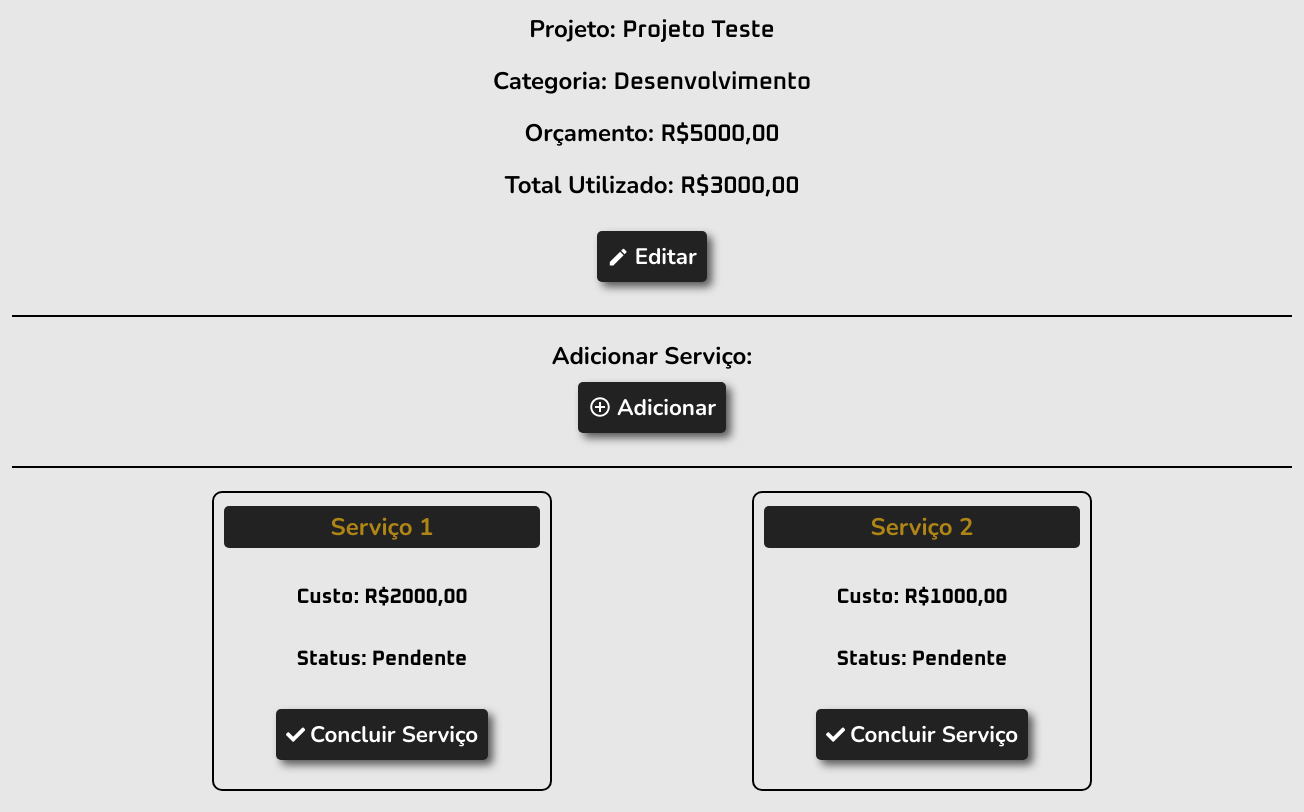
Scenario: Página de Edição de Projeto - Teste de Integração › handleCreateService › deve criar serviço com sucesso quando o custo for válido
Click the button "Adicionar": {"x": 652, "y": 408} [578, 382, 726, 433]
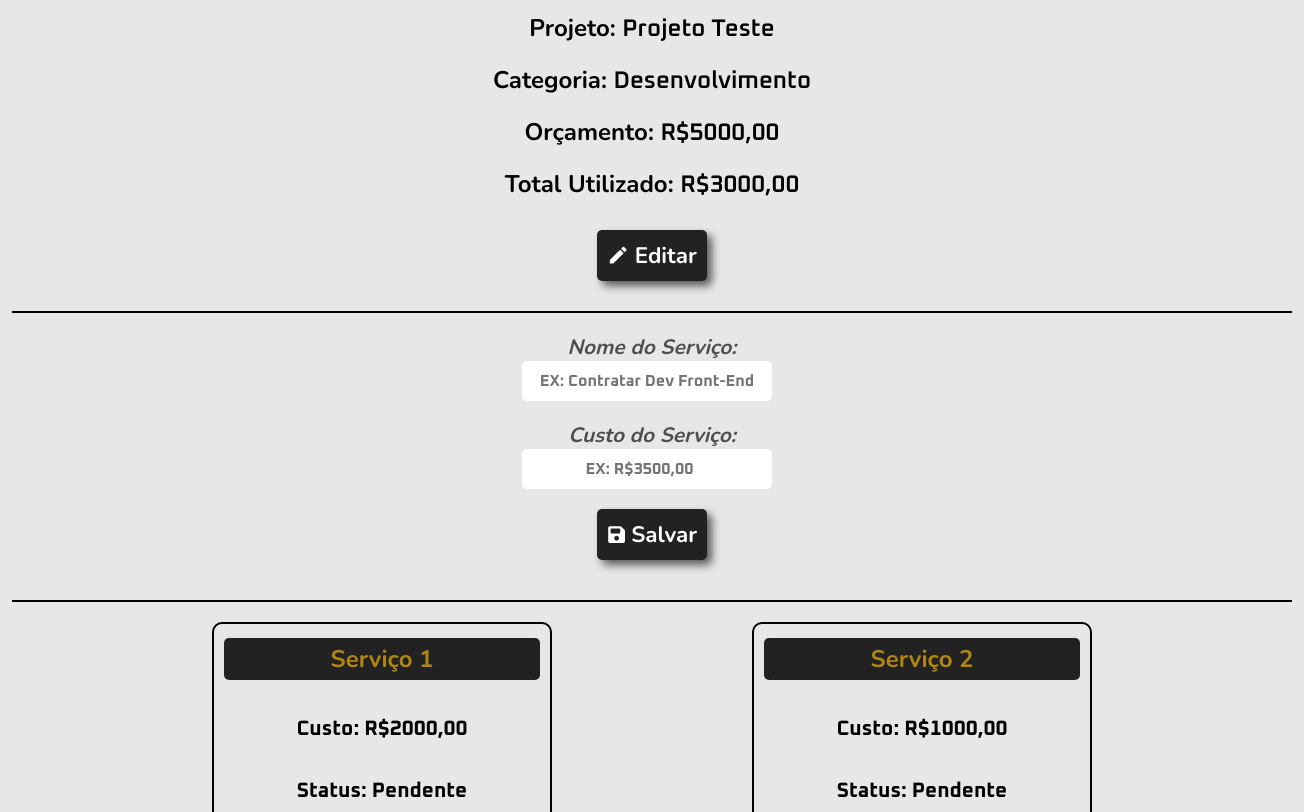
In the field labelled "Nome do Serviço:": {"x": 647, "y": 381} [522, 361, 772, 401], type "Novo Serviço"
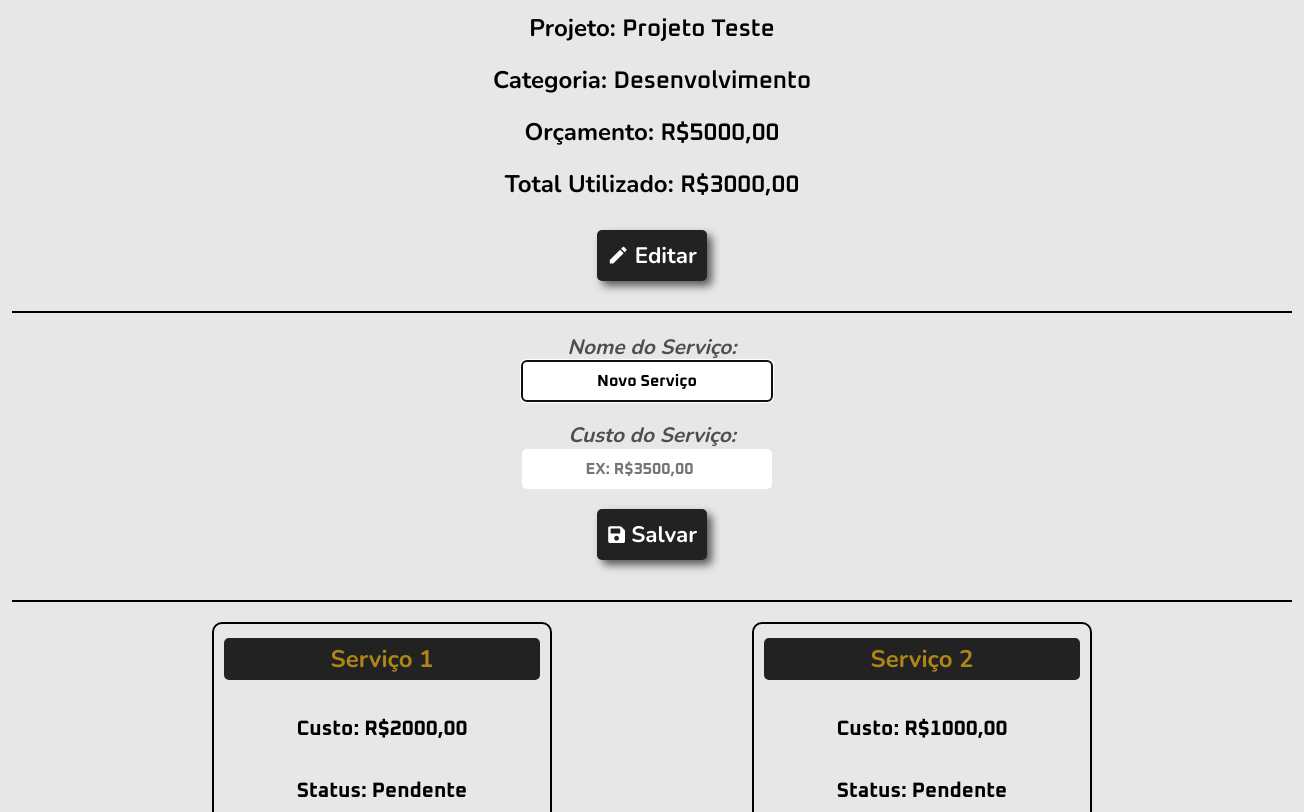
In the number field labelled "Custo do Serviço:": {"x": 647, "y": 469} [522, 449, 772, 489], type "1500"
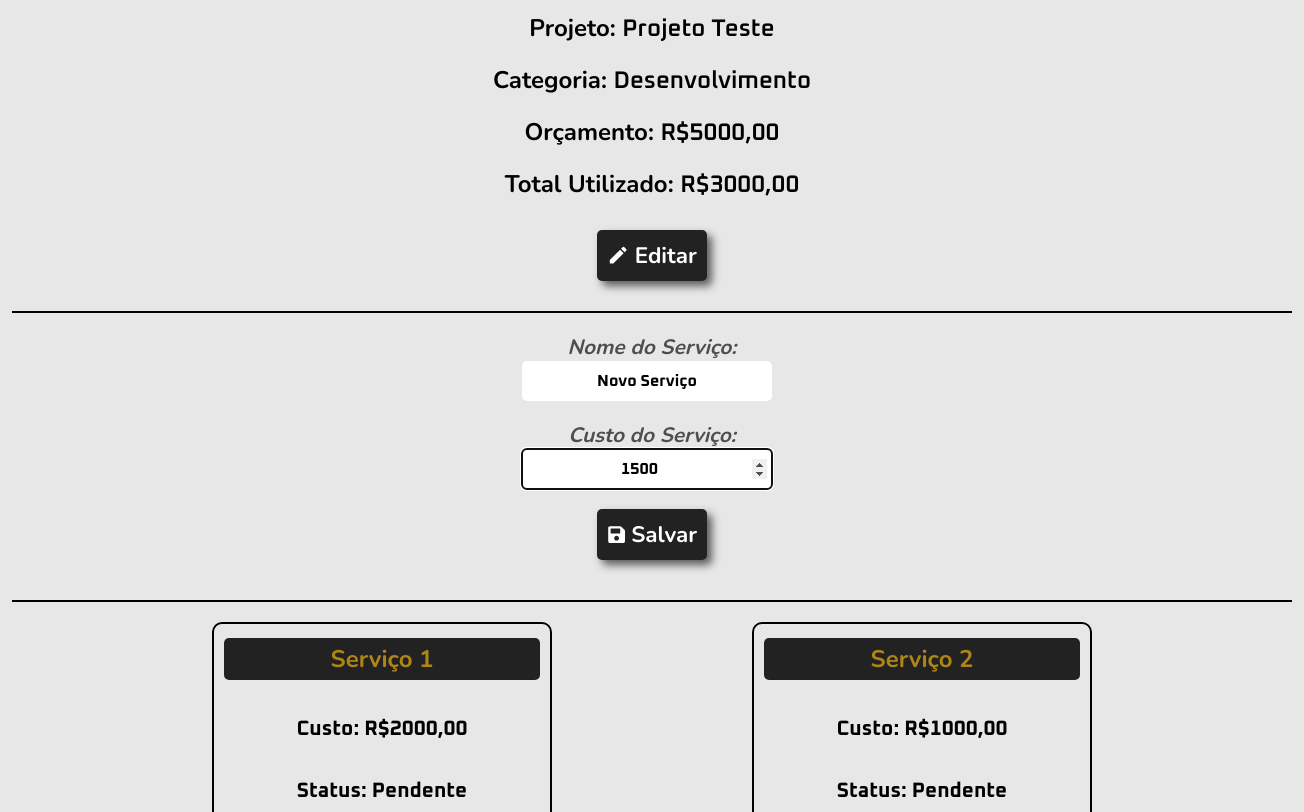
Click the button "Salvar": {"x": 652, "y": 534} [597, 509, 707, 560]
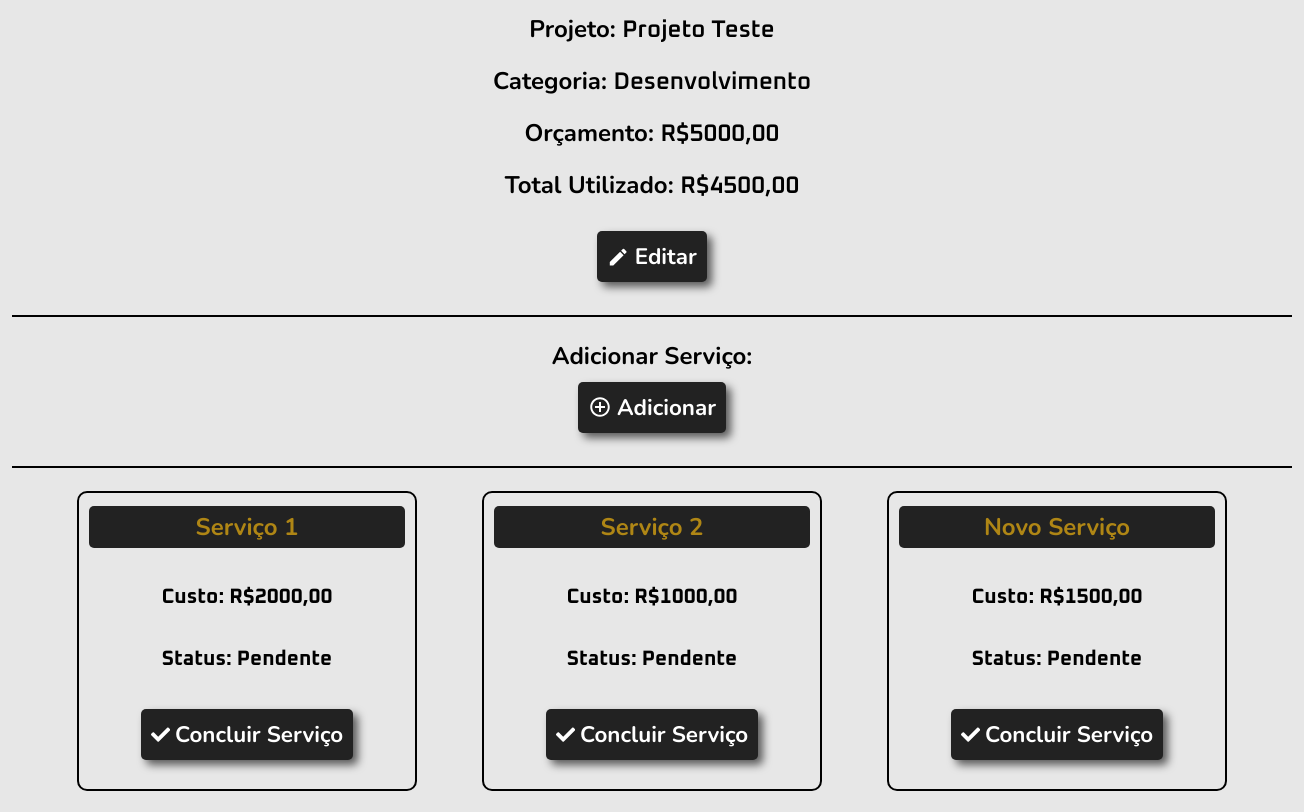
expect the heading "Novo Serviço" is shown: met, box [899, 506, 1215, 548]
expect the text "R$4500,00" is shown: met, box [680, 174, 799, 198]
